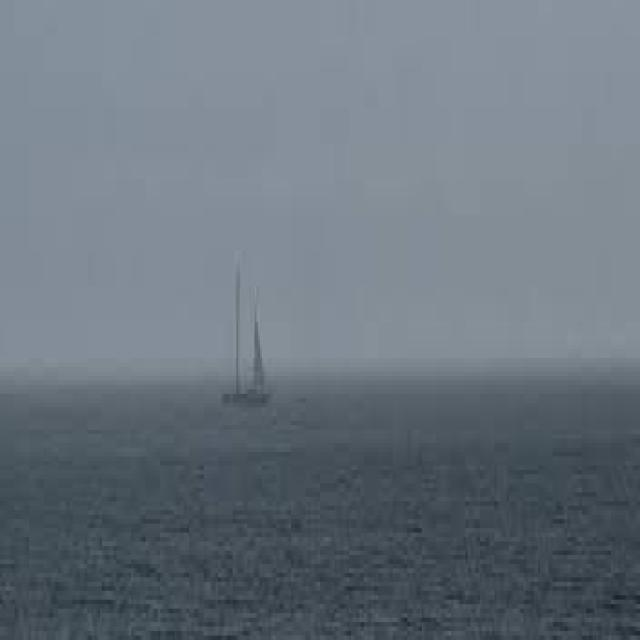sailboat: (221, 258, 271, 424)
